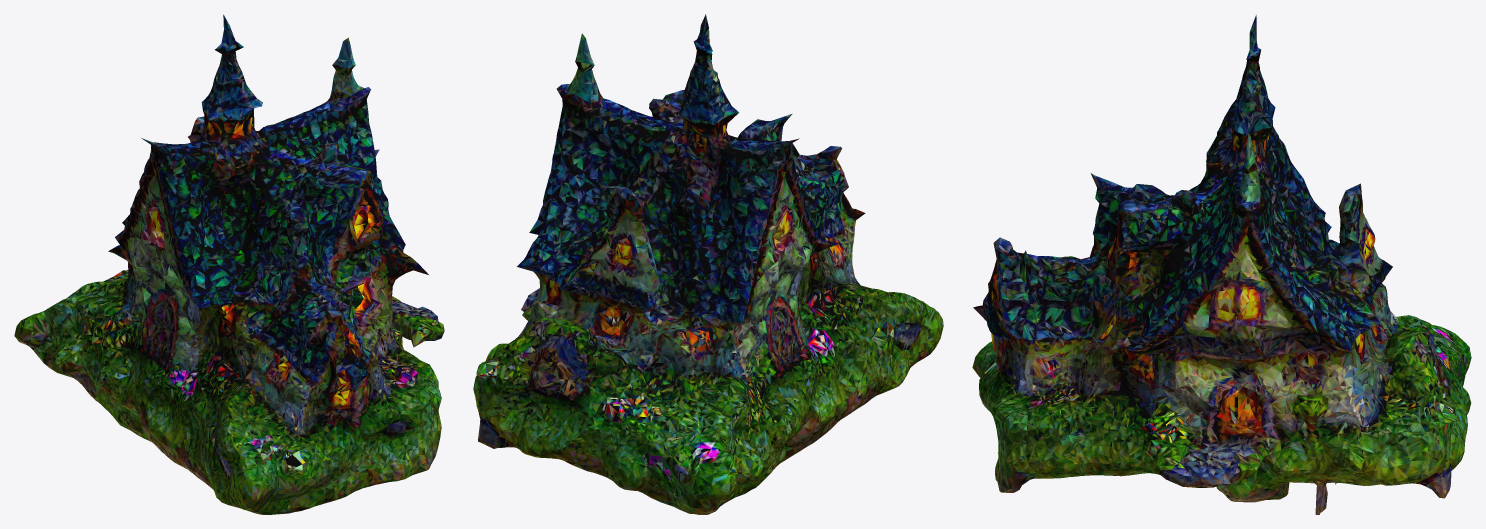
File: witch_house-canny.glb
The picture shows the model from 3 angles, left to right: view 1: azimuth 30°, elevation 25°; view 2: azimuth 150°, elevation 25°; view 3: azimuth 270°, elevation 25°; orthographic projection. The views are drawn at different scales.
Parts seen in each view (by area): view 1: extracted_mesh; view 2: extracted_mesh; view 3: extracted_mesh.
Part boxes in pixels (<box>): extracted_mesh: <box>14,14,444,514</box>; extracted_mesh: <box>473,14,943,514</box>; extracted_mesh: <box>972,15,1471,514</box>.
Bounding box in the file's own units: 0.7183 × 0.9657 × 0.9252.
Materials: 1 (1 with a texture image).
